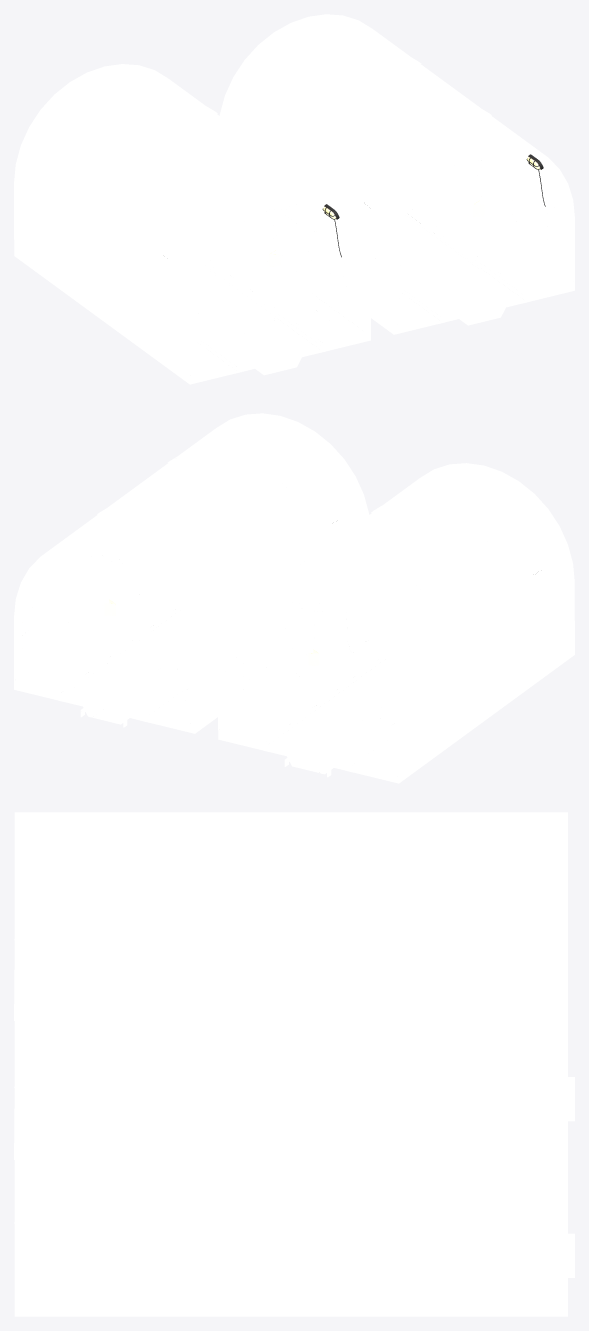
The model's file is Train_Tunnel_Middle_02.fbx.
The picture shows the model from 3 angles, top to bottom: view 1: azimuth 30°, elevation 25°; view 2: azimuth 150°, elevation 25°; view 3: azimuth 270°, elevation 25°; orthographic projection. The views are drawn at different scales.
Visible parts, largest first — view 1: Train_Tunnel_Middle_02; view 2: Train_Tunnel_Middle_02; view 3: Train_Tunnel_Middle_02.
Boxes of the visible parts, <box> form: Train_Tunnel_Middle_02: <box>14,14,574,384</box>; Train_Tunnel_Middle_02: <box>14,413,574,783</box>; Train_Tunnel_Middle_02: <box>14,812,574,1316</box>.
Size of the model in its own units: 1264 by 553 by 1013.
